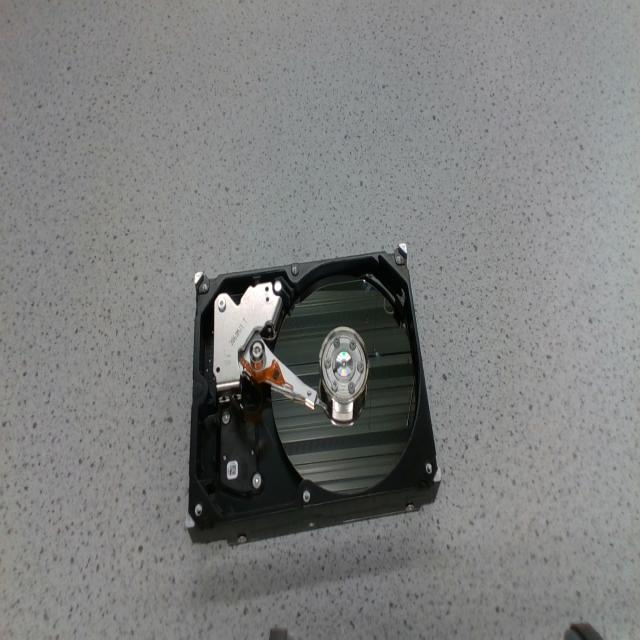actuator arm: (238, 330, 320, 410)
actuator axis: (250, 340, 264, 361)
case: (185, 244, 442, 544)
magnet: (214, 283, 281, 386)
pcb connector: (222, 404, 258, 493)
platter: (273, 274, 417, 495)
platter holder: (319, 326, 368, 407)
screw: (252, 473, 262, 489), (217, 296, 226, 311), (222, 410, 230, 424), (349, 338, 356, 351), (331, 379, 339, 390), (348, 381, 355, 393), (357, 361, 364, 373), (324, 357, 331, 368), (333, 338, 341, 347)
